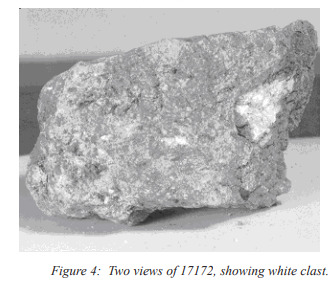Breccia: (31, 9, 307, 239)
